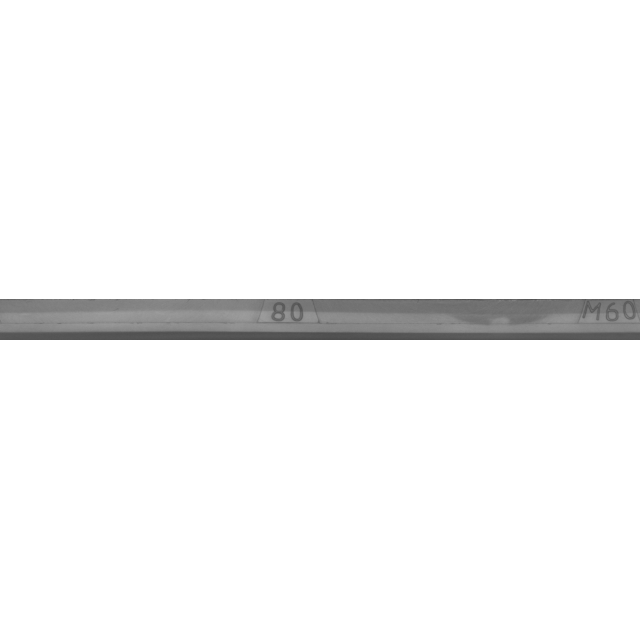mohao: (522, 270, 640, 370)
xuehao: (185, 270, 385, 370)
